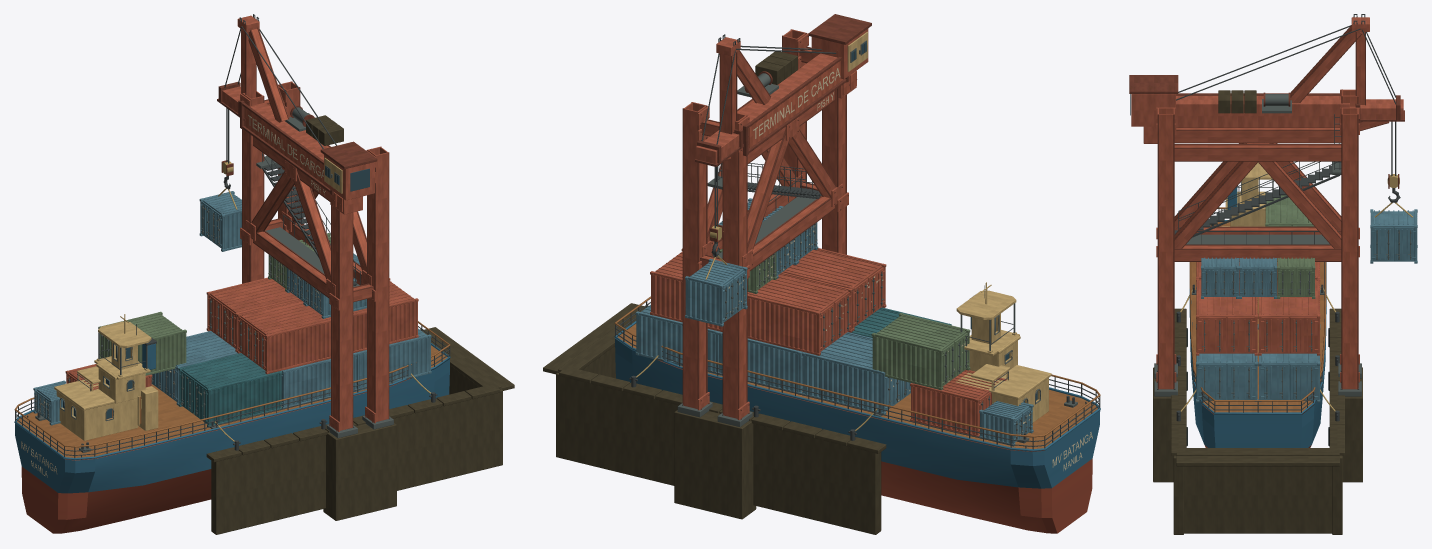
File: cargo_port.glb
3 views of the same model, side by side, from view 1: azimuth 30°, elevation 25°; view 2: azimuth 150°, elevation 25°; view 3: azimuth 270°, elevation 25° (orthographic). The views are drawn at different scales.
Parts seen in each view (by area): view 1: Solid_Ref_TR20_stone, Solid_Ref_TR20_red, Solid_Ref_D19_TR20_HullBlue, Solid_Ref_TR20_blue, Solid_Ref_R20_CraneFace, Solid_Ref_R20_CraneDarkEdge.001, Solid_Ref_R20_Bridge, Solid_Ref_D19_TR20_HullRed, Solid_Ref_TR20_teal, Solid_Ref_TR20_wood, Solid_Ref_D19_ForgedIron, Solid_Ref_D19_TR20_Steel (+3 smaller); view 2: Solid_Ref_TR20_red, Solid_Ref_TR20_stone, Solid_Ref_TR20_blue, Solid_Ref_D19_TR20_HullBlue, Solid_Ref_R20_CraneFace, Solid_Ref_R20_CraneDarkEdge.001, Solid_Ref_D19_TR20_HullRed, Solid_Ref_R20_Bridge, Solid_Ref_TR20_sage, Solid_Ref_D19_ForgedIron, Solid_Ref_D19_TR20_Steel, Solid_Ref_TR20_wood (+2 smaller); view 3: Solid_Ref_TR20_red, Solid_Ref_TR20_stone, Solid_Ref_R20_CraneFace, Solid_Ref_TR20_blue, Solid_Ref_R20_CraneDarkEdge.001, Solid_Ref_D19_TR20_HullBlue, Solid_Ref_D19_ForgedIron, Solid_Ref_D19_TR20_Steel, Solid_Ref_TR20_wood, Solid_Ref_TR20_sage, Solid_Ref_R20_Bridge.
Part boxes in pixels (<box>): Solid_Ref_TR20_stone: <box>206,115,514,534</box>; Solid_Ref_TR20_red: <box>65,15,418,431</box>; Solid_Ref_D19_TR20_HullBlue: <box>14,343,450,493</box>; Solid_Ref_TR20_blue: <box>33,191,431,425</box>; Solid_Ref_R20_CraneFace: <box>242,28,388,430</box>; Solid_Ref_R20_CraneDarkEdge.001: <box>217,27,389,431</box>; Solid_Ref_R20_Bridge: <box>54,158,342,440</box>; Solid_Ref_D19_TR20_HullRed: <box>21,378,411,533</box>; Solid_Ref_TR20_teal: <box>178,353,282,426</box>; Solid_Ref_TR20_wood: <box>14,321,450,457</box>; Solid_Ref_D19_ForgedIron: <box>15,14,450,459</box>; Solid_Ref_D19_TR20_Steel: <box>35,107,412,452</box>; Solid_Ref_TR20_red: <box>650,28,1006,436</box>; Solid_Ref_TR20_stone: <box>543,51,886,534</box>; Solid_Ref_TR20_blue: <box>635,198,1033,446</box>; Solid_Ref_D19_TR20_HullBlue: <box>614,317,1100,488</box>; Solid_Ref_R20_CraneFace: <box>684,29,856,407</box>; Solid_Ref_R20_CraneDarkEdge.001: <box>682,14,871,419</box>; Solid_Ref_D19_TR20_HullRed: <box>658,360,1092,533</box>; Solid_Ref_R20_Bridge: <box>847,31,1051,422</box>; Solid_Ref_TR20_sage: <box>719,249,970,390</box>; Solid_Ref_D19_ForgedIron: <box>615,34,1100,451</box>; Solid_Ref_D19_TR20_Steel: <box>656,40,1077,443</box>; Solid_Ref_TR20_wood: <box>614,296,1100,448</box>; Solid_Ref_TR20_red: <box>1131,17,1403,382</box>; Solid_Ref_TR20_stone: <box>1153,90,1362,534</box>; Solid_Ref_R20_CraneFace: <box>1158,26,1364,389</box>; Solid_Ref_TR20_blue: <box>1196,209,1417,402</box>; Solid_Ref_R20_CraneDarkEdge.001: <box>1129,25,1404,389</box>; Solid_Ref_D19_TR20_HullBlue: <box>1189,187,1326,447</box>; Solid_Ref_D19_ForgedIron: <box>1174,14,1400,421</box>; Solid_Ref_D19_TR20_Steel: <box>1154,94,1411,398</box>; Solid_Ref_TR20_wood: <box>1189,207,1326,412</box>; Solid_Ref_TR20_sage: <box>1265,193,1315,298</box>; Solid_Ref_R20_Bridge: <box>1221,162,1272,226</box>.
Size of the model in its own units: 13.42 by 12.56 by 7.44.
Materials: 18 (11 with a texture image).
